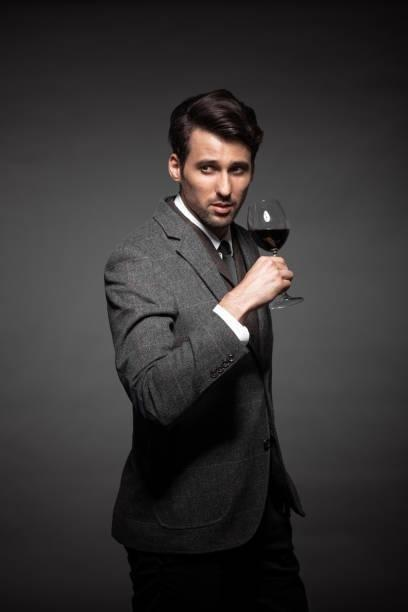glass-wine: (245, 197, 304, 310)
